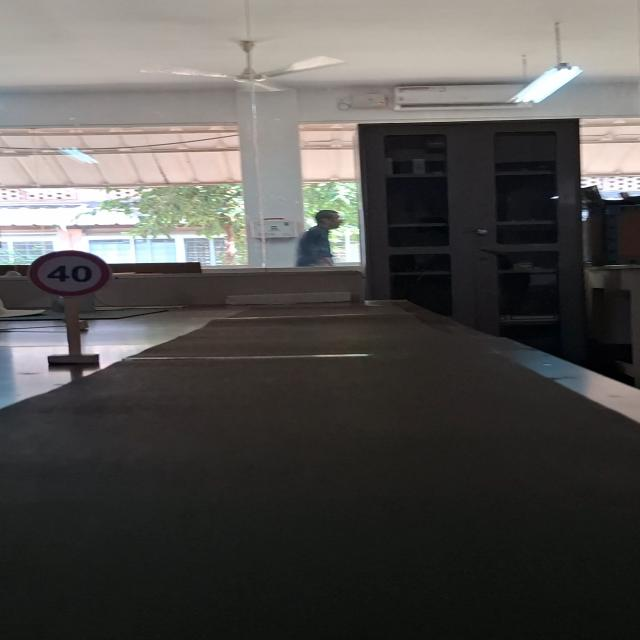Speed40: (27, 249, 114, 298)
